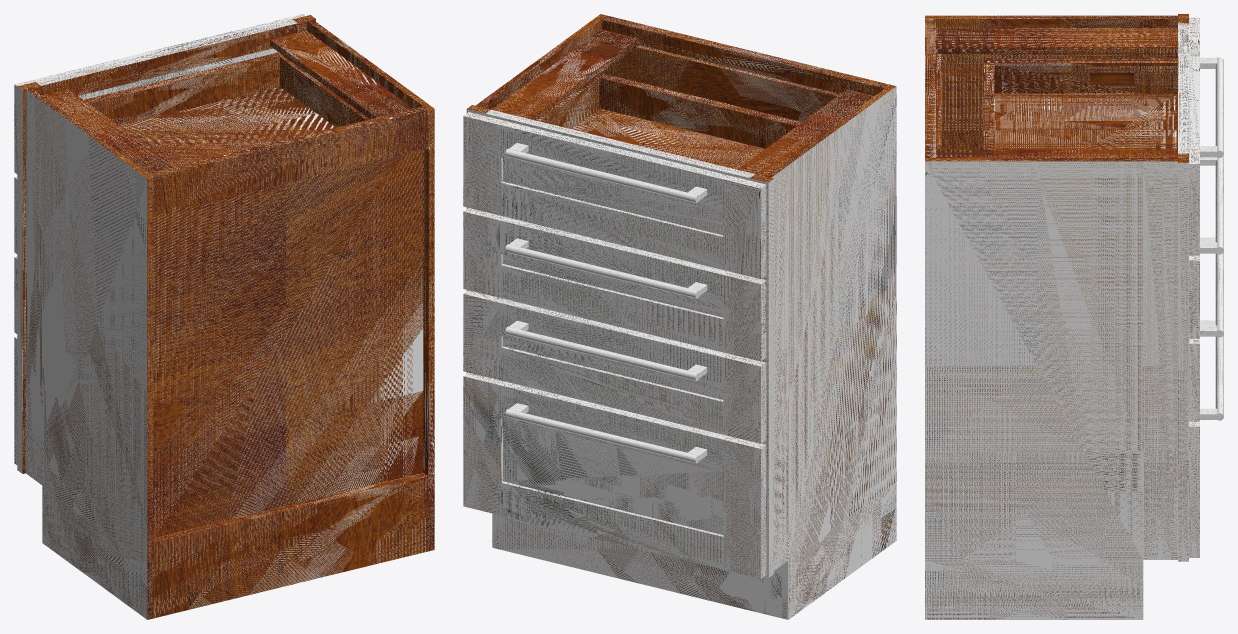
The picture shows the model from 3 angles, left to right: view 1: azimuth 30°, elevation 25°; view 2: azimuth 150°, elevation 25°; view 3: azimuth 270°, elevation 25°; orthographic projection. The views are drawn at different scales.
Visible parts, largest first — view 1: mesh4_mesh4-geometry, mesh7_mesh7-geometry, mesh12_mesh12-geometry, mesh3_mesh3-geometry, mesh19_mesh19-geometry, mesh6_mesh6-geometry, mesh8_mesh8-geometry, mesh17_mesh17-geometry, mesh10_mesh10-geometry, mesh5_mesh5-geometry, mesh14_mesh14-geometry, mesh2_mesh2-geometry (+4 smaller); view 2: mesh7_mesh7-geometry, mesh23_mesh23-geometry, mesh21_mesh21-geometry, mesh26_mesh26-geometry, mesh22_mesh22-geometry, mesh24_mesh24-geometry, mesh13_mesh13-geometry, mesh4_mesh4-geometry, mesh27_mesh27-geometry, mesh8_mesh8-geometry, mesh17_mesh17-geometry, mesh6_mesh6-geometry (+9 smaller); view 3: mesh10_mesh10-geometry, mesh9_mesh9-geometry, mesh11_mesh11-geometry, mesh19_mesh19-geometry, mesh7_mesh7-geometry, mesh15_mesh15-geometry, mesh16_mesh16-geometry, mesh2_mesh2-geometry, mesh24_mesh24-geometry, mesh27_mesh27-geometry, mesh14_mesh14-geometry, mesh3_mesh3-geometry (+8 smaller).
Part boxes in pixels (x1,y1,x2,y2): mesh4_mesh4-geometry: (153, 150, 423, 537); mesh7_mesh7-geometry: (42, 100, 153, 562); mesh12_mesh12-geometry: (153, 472, 428, 618); mesh3_mesh3-geometry: (148, 106, 428, 215); mesh19_mesh19-geometry: (120, 87, 335, 166); mesh6_mesh6-geometry: (25, 88, 47, 484); mesh8_mesh8-geometry: (42, 486, 153, 619); mesh17_mesh17-geometry: (84, 53, 279, 125); mesh10_mesh10-geometry: (323, 32, 434, 493); mesh5_mesh5-geometry: (36, 19, 297, 95); mesh14_mesh14-geometry: (270, 30, 412, 118); mesh2_mesh2-geometry: (17, 15, 315, 473); mesh7_mesh7-geometry: (782, 84, 896, 560); mesh23_mesh23-geometry: (501, 181, 723, 569); mesh21_mesh21-geometry: (501, 121, 728, 472); mesh26_mesh26-geometry: (503, 158, 723, 534); mesh22_mesh22-geometry: (723, 175, 766, 578); mesh24_mesh24-geometry: (463, 112, 506, 515); mesh13_mesh13-geometry: (498, 515, 781, 618); mesh4_mesh4-geometry: (601, 45, 839, 121); mesh27_mesh27-geometry: (505, 149, 699, 463); mesh8_mesh8-geometry: (782, 481, 896, 619); mesh17_mesh17-geometry: (600, 74, 801, 148); mesh6_mesh6-geometry: (765, 164, 788, 570); mesh10_mesh10-geometry: (925, 158, 1143, 559); mesh9_mesh9-geometry: (1143, 158, 1177, 559); mesh11_mesh11-geometry: (925, 560, 1143, 619); mesh19_mesh19-geometry: (994, 93, 1177, 149); mesh7_mesh7-geometry: (925, 15, 1143, 149); mesh15_mesh15-geometry: (936, 28, 1177, 53); mesh16_mesh16-geometry: (983, 58, 1177, 93); mesh2_mesh2-geometry: (1178, 14, 1188, 561); mesh24_mesh24-geometry: (1189, 145, 1199, 557); mesh27_mesh27-geometry: (1215, 57, 1223, 420); mesh14_mesh14-geometry: (936, 149, 1177, 157); mesh3_mesh3-geometry: (925, 18, 935, 157).
Size of the model in its own units: 0.5139 by 0.7387 by 0.4363.
